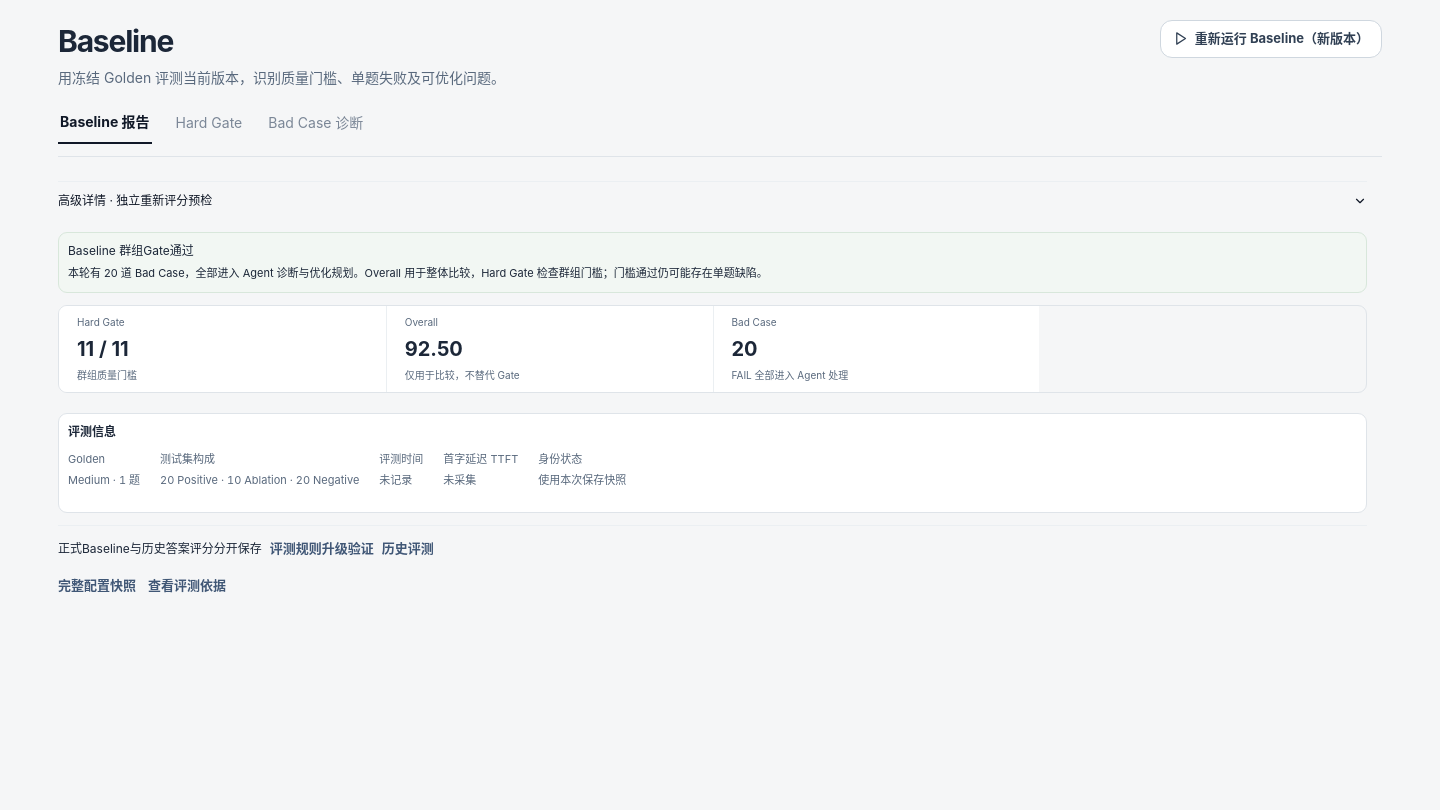
it: restores compact Baseline summary without treating aggregate Gate success as all cases passing
Expected: the element with class "baseline-metrics" shows "11 / 11", [58,305,1367,393]
Expected: the element with class "baseline-metrics" shows "92.50", [405,337,463,361]
Click the button "Bad Case 诊断" at coordinates (316, 123), box [266,101,365,144]
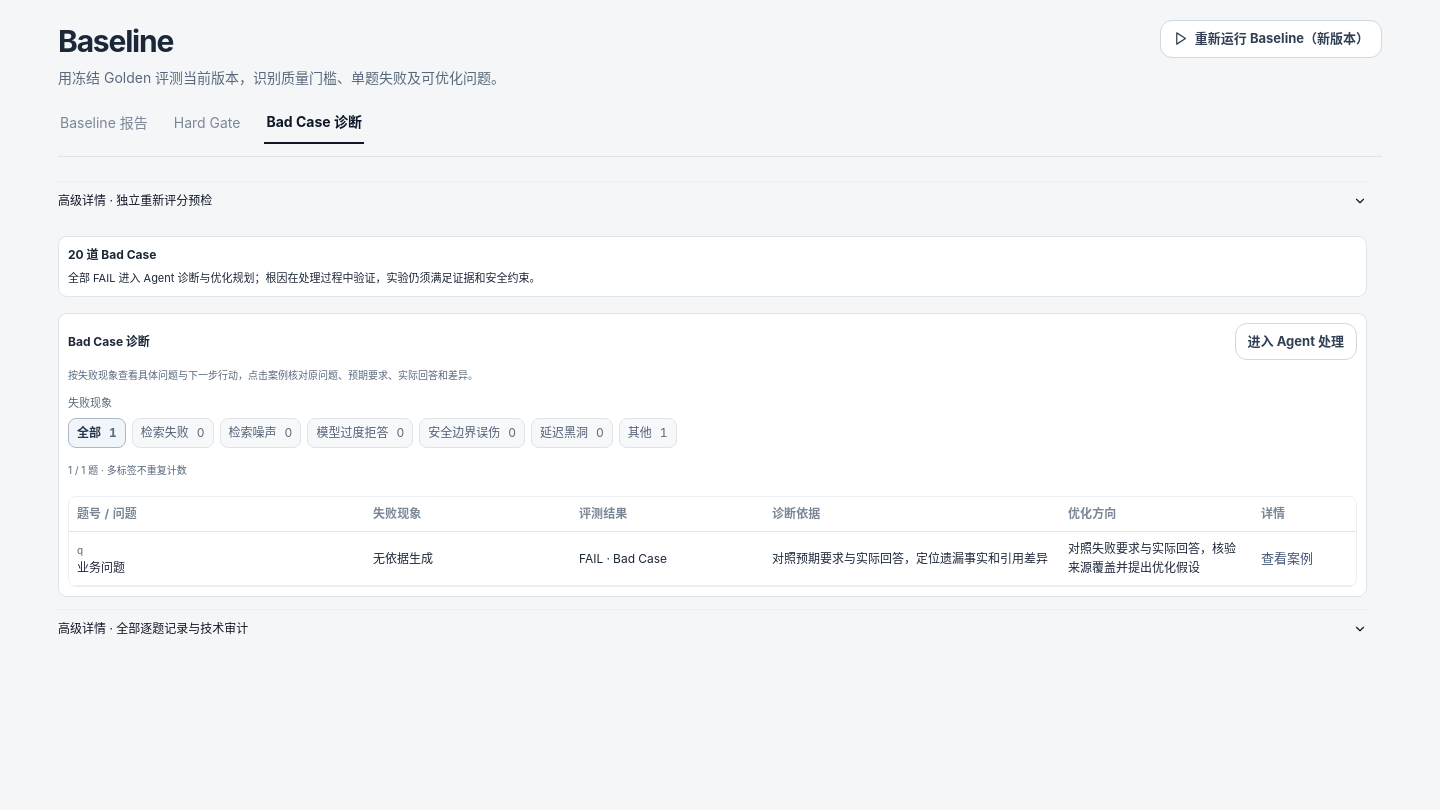
Expected: the table shows "业务问题", [77,560,125,575]
Expected: the table shows "FAIL", [579,551,667,566]
Expected: the element with class "baseline-metrics" is gone
